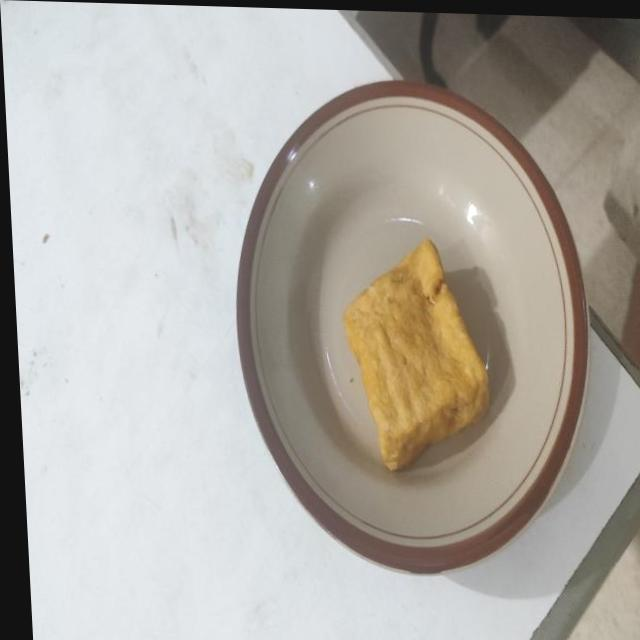tahu_goreng: (344, 238, 489, 471)
